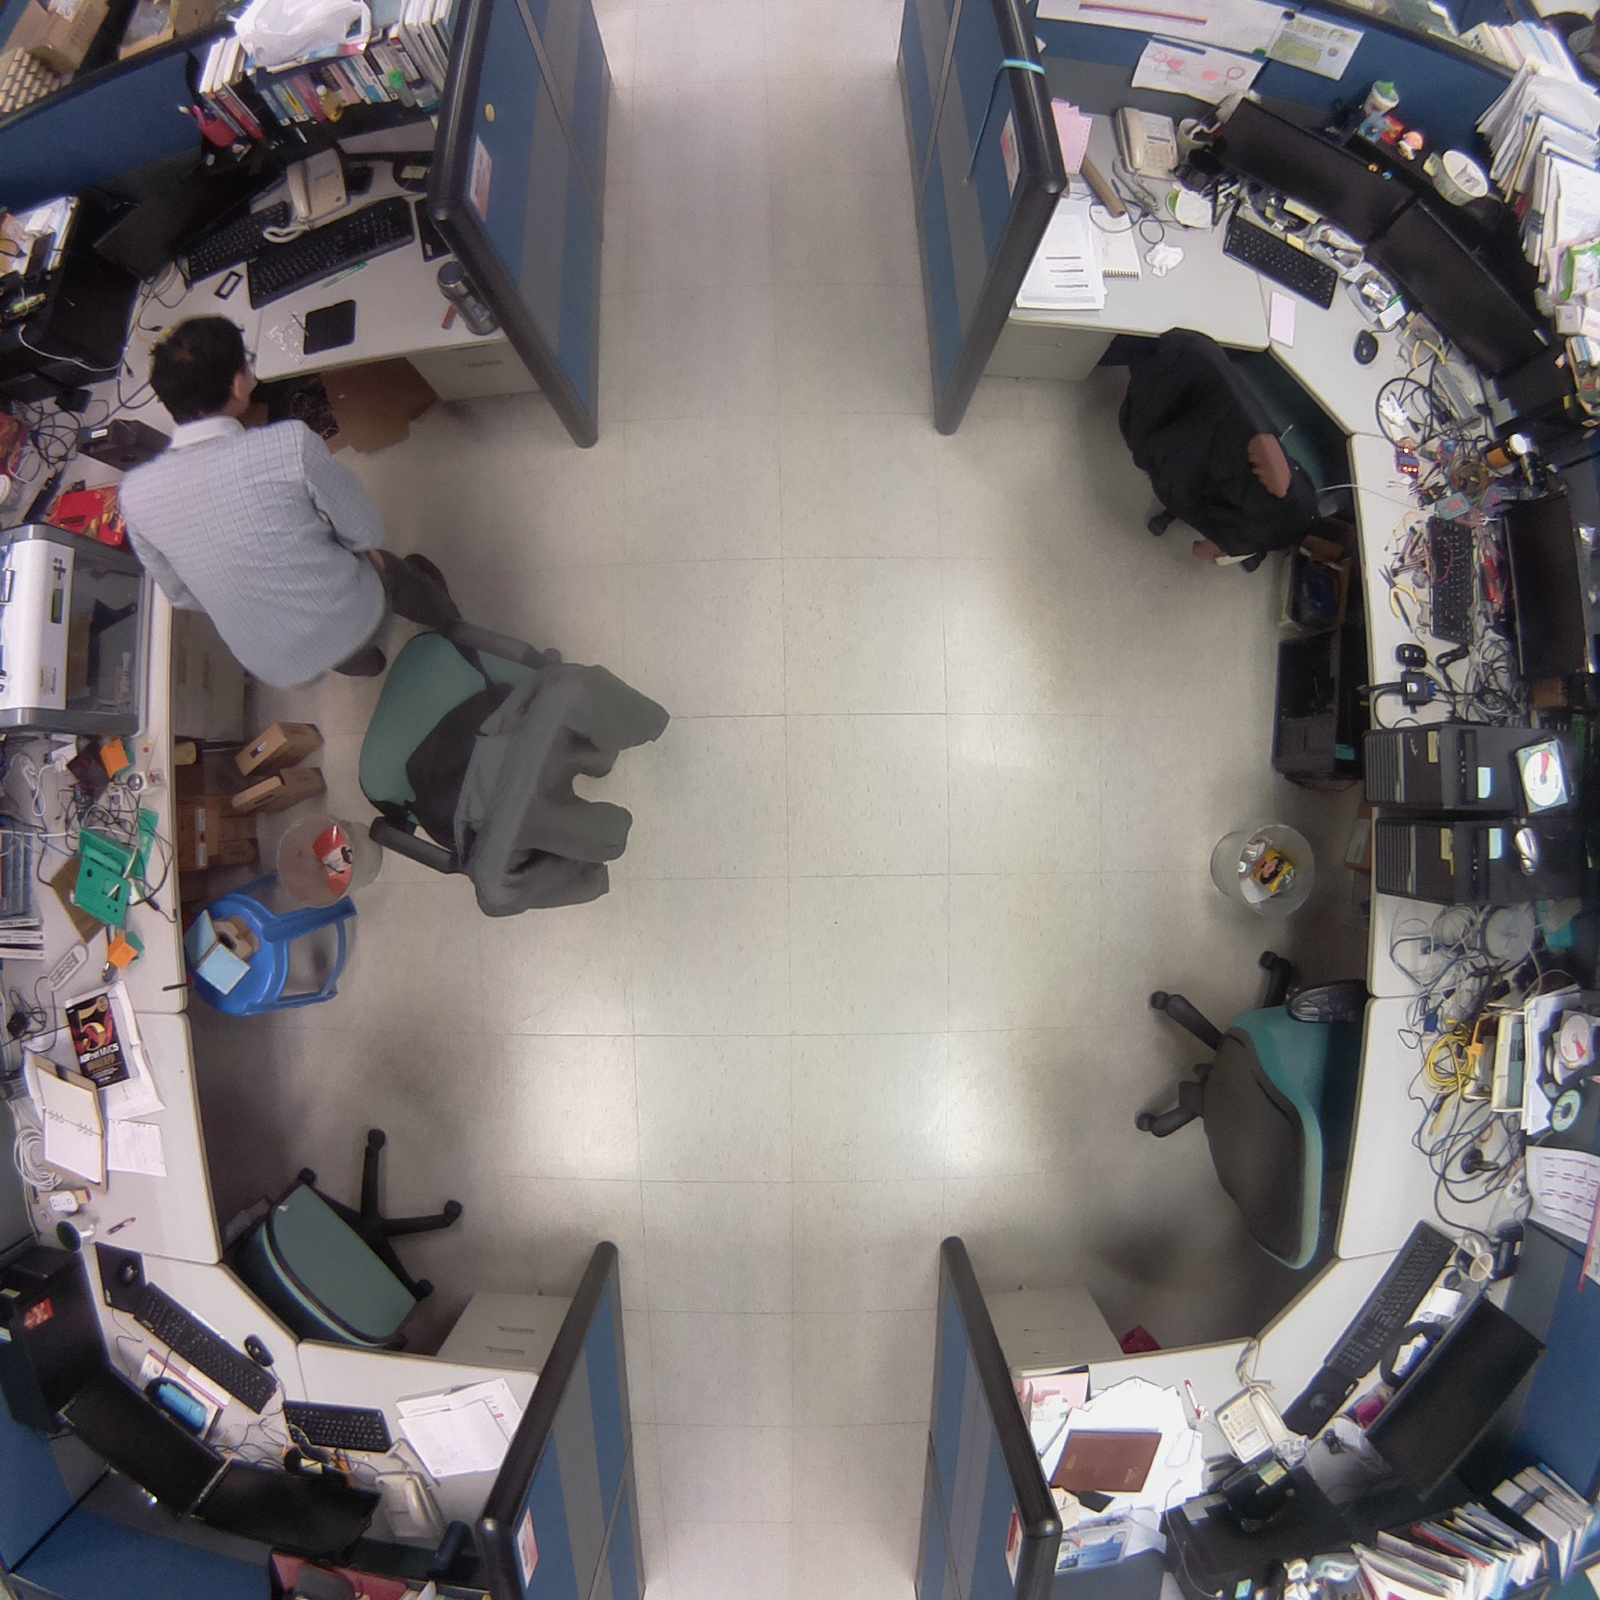chair: (337, 604, 709, 945), (1109, 927, 1368, 1278), (1104, 309, 1363, 586), (222, 1111, 481, 1365)
head: (138, 304, 263, 438)
standing: (110, 306, 470, 693)
